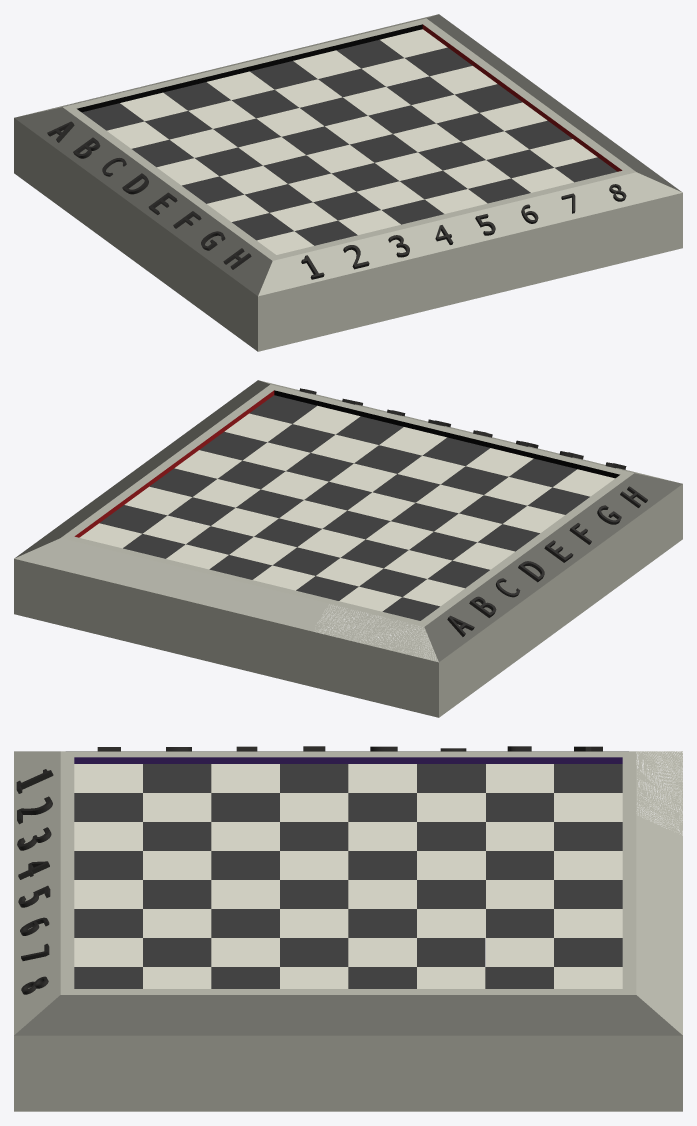
Rendered from Desk.dae.
The picture shows the model from 3 angles, top to bottom: view 1: azimuth 30°, elevation 25°; view 2: azimuth 150°, elevation 25°; view 3: azimuth 270°, elevation 25°; orthographic projection. The views are drawn at different scales.
Visible parts, largest first — view 1: ID197, ID633, ID647, ID297, ID519, ID465, ID375, ID477, ID453, ID459, ID489, ID471 (+56 smaller); view 2: ID197, ID633, ID647, ID619, ID297, ID465, ID507, ID595, ID375, ID459, ID471, ID477 (+56 smaller); view 3: ID197, ID647, ID297, ID625, ID223, ID267, ID273, ID279, ID285, ID291, ID339, ID345 (+55 smaller).
Part boxes in pixels (x1,y1,x2,y2): ID197: [14, 14, 682, 351]; ID633: [14, 107, 272, 295]; ID647: [427, 14, 682, 192]; ID297: [82, 103, 212, 139]; ID519: [77, 24, 422, 112]; ID465: [170, 129, 237, 157]; ID375: [343, 87, 410, 115]; ID477: [256, 108, 323, 136]; ID453: [270, 202, 337, 230]; ID459: [300, 97, 367, 126]; ID489: [195, 147, 262, 176]; ID471: [213, 118, 280, 147]; ID197: [14, 380, 682, 717]; ID633: [424, 473, 682, 661]; ID647: [14, 380, 269, 558]; ID619: [274, 390, 619, 478]; ID297: [359, 568, 439, 620]; ID465: [384, 550, 451, 578]; ID507: [434, 513, 501, 542]; ID595: [509, 458, 576, 487]; ID375: [211, 508, 278, 536]; ID459: [254, 518, 321, 546]; ID471: [341, 539, 408, 568]; ID477: [297, 529, 365, 557]; ID197: [14, 751, 682, 1111]; ID647: [14, 995, 682, 1035]; ID297: [486, 764, 622, 821]; ID625: [74, 757, 622, 763]; ID223: [554, 938, 622, 966]; ID267: [554, 909, 622, 937]; ID273: [554, 822, 622, 850]; ID279: [554, 880, 622, 908]; ID285: [554, 851, 622, 879]; ID291: [554, 793, 622, 821]; ID339: [417, 938, 485, 966]; ID345: [348, 938, 416, 966].
Bounding box in the file's own units: 9.87 × 1.59 × 9.82.
